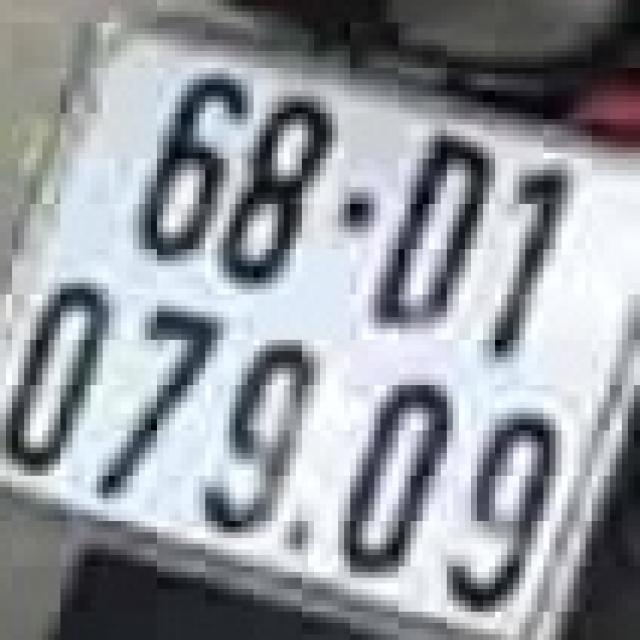0: (332, 380, 453, 578), (0, 283, 109, 476)
1: (489, 158, 574, 356)
6: (138, 74, 235, 260)
7: (96, 306, 218, 504)
8: (218, 96, 326, 283)
9: (199, 334, 314, 538), (447, 408, 555, 612)
D: (368, 136, 489, 328)
